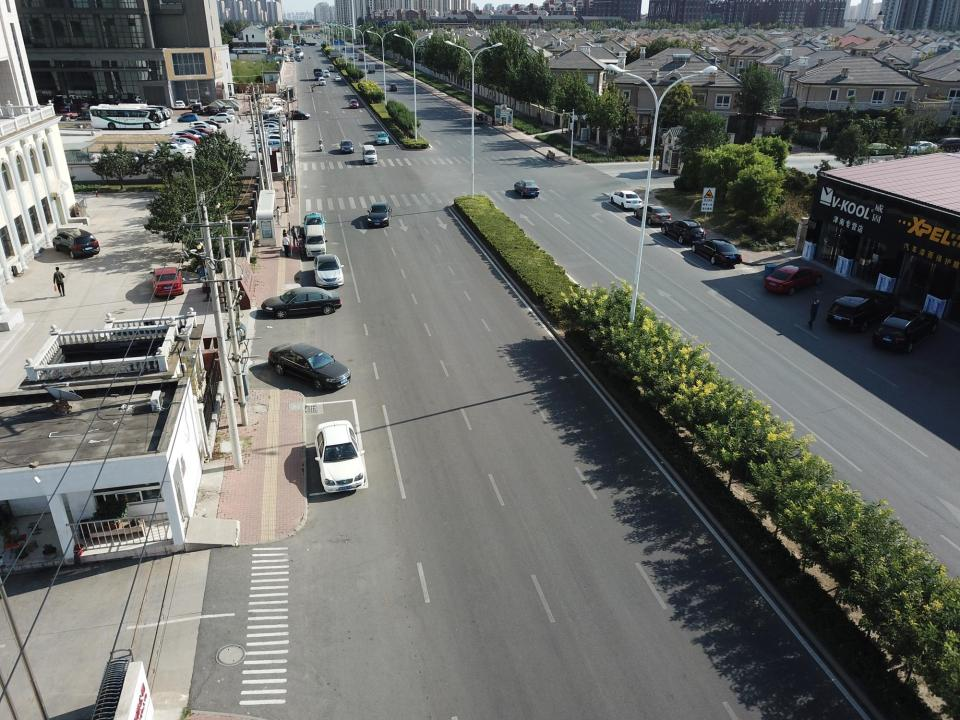car: (266, 342, 352, 393), (315, 417, 369, 493), (872, 305, 942, 354), (826, 292, 898, 332), (262, 286, 342, 318), (762, 260, 822, 293), (252, 116, 293, 152), (52, 230, 101, 260), (692, 239, 743, 265), (660, 219, 706, 244), (312, 255, 344, 288), (150, 267, 184, 297), (634, 204, 672, 224), (366, 202, 392, 228), (610, 190, 643, 209), (170, 129, 209, 145), (152, 141, 194, 155), (302, 212, 326, 235), (514, 179, 540, 198), (188, 122, 222, 134), (362, 145, 377, 165), (207, 112, 235, 122), (284, 109, 310, 119), (374, 130, 390, 146), (260, 105, 284, 114), (340, 139, 354, 154), (177, 113, 199, 122), (471, 109, 484, 124), (74, 115, 95, 124), (55, 108, 73, 118), (204, 104, 220, 114), (269, 97, 288, 105), (75, 100, 90, 110), (191, 103, 204, 114), (188, 99, 202, 108), (221, 105, 235, 114), (348, 99, 360, 108), (77, 108, 90, 116), (174, 100, 186, 108), (389, 82, 397, 91), (319, 77, 326, 86), (335, 76, 342, 82), (328, 64, 334, 71), (352, 53, 358, 59), (296, 56, 302, 62), (284, 56, 290, 62), (288, 43, 296, 47), (354, 41, 361, 45), (349, 56, 354, 60), (290, 57, 294, 62), (341, 46, 346, 50)
truck: (291, 38, 318, 48), (313, 67, 324, 79), (367, 63, 376, 73), (294, 46, 302, 56), (358, 53, 365, 62), (329, 36, 335, 44)
van: (89, 104, 173, 130), (304, 224, 328, 259), (323, 69, 330, 77)
